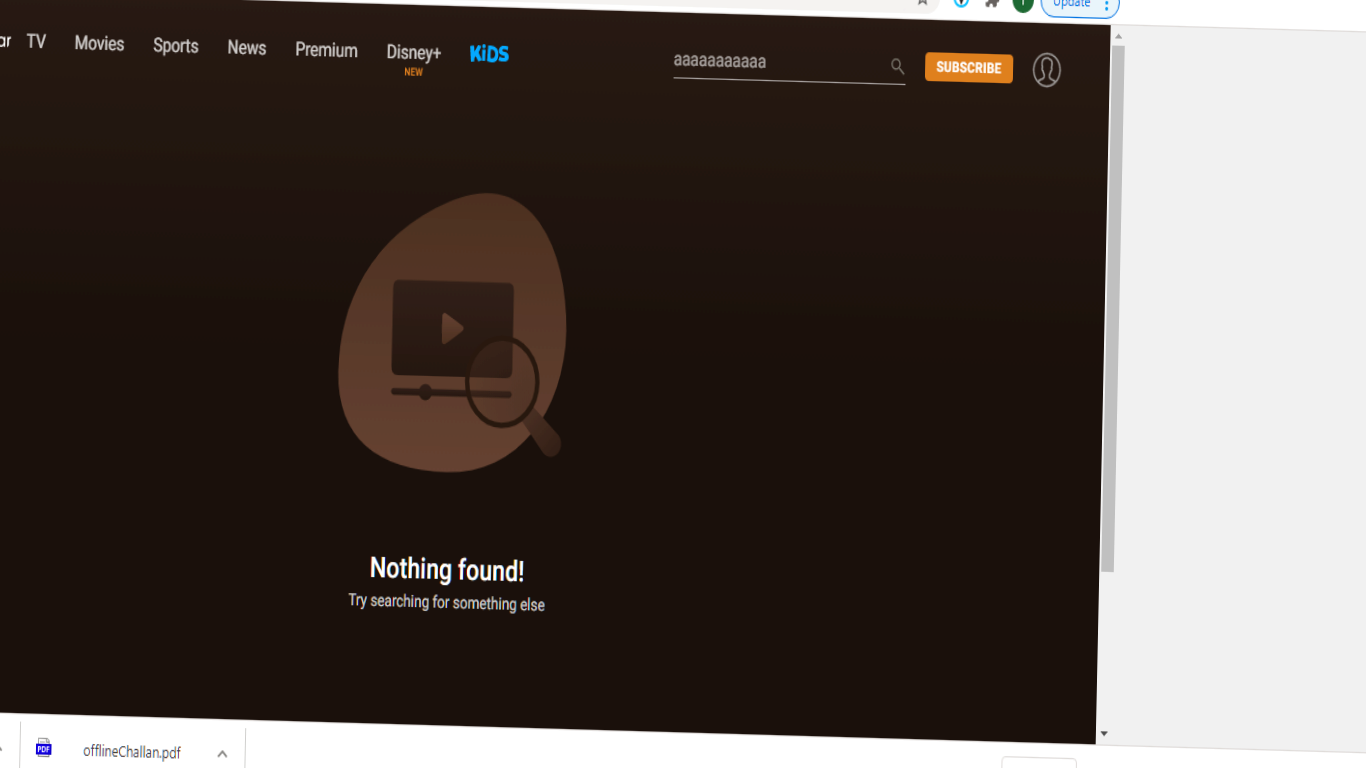profileicon: (1020, 49, 1072, 98)
searchicon: (875, 44, 916, 78)
searchtextbox: (666, 35, 914, 96)
